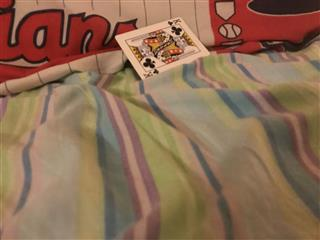KingOfClubs: (114, 16, 211, 80)
